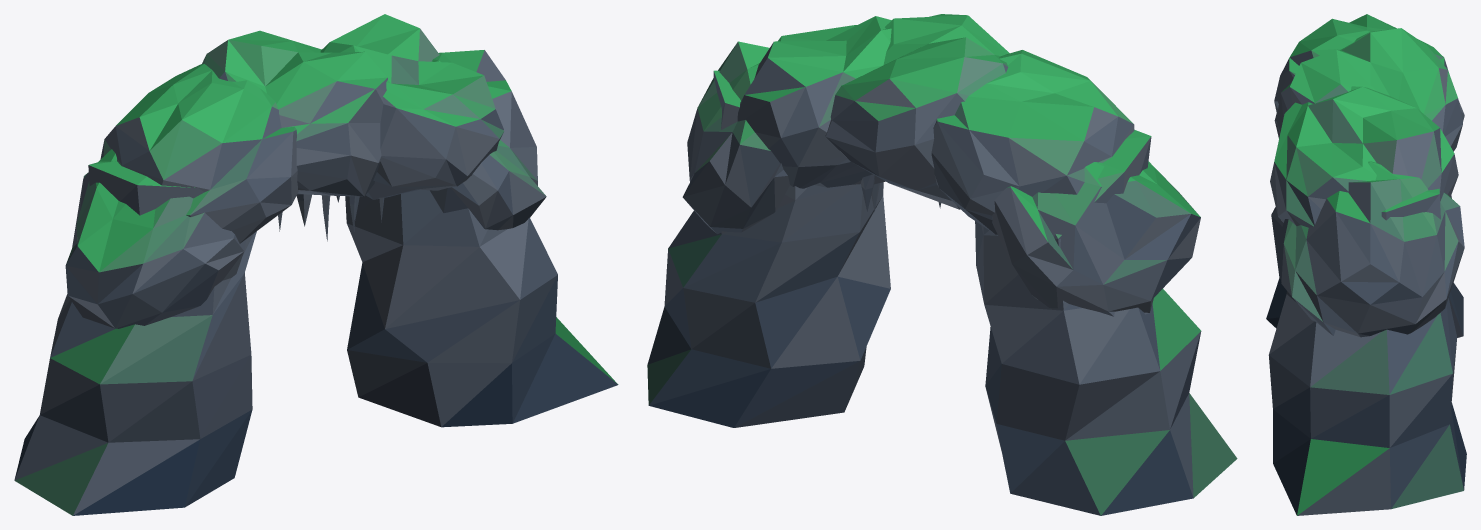
File: batu_arch_granite_547808.glb
The picture shows the model from 3 angles, left to right: view 1: azimuth 30°, elevation 25°; view 2: azimuth 150°, elevation 25°; view 3: azimuth 270°, elevation 25°; orthographic projection. The views are drawn at different scales.
Visible parts, largest first — view 1: Lengkungan_Gua_Batu; view 2: Lengkungan_Gua_Batu; view 3: Lengkungan_Gua_Batu.
Part boxes in pixels (<box>): Lengkungan_Gua_Batu: <box>14,14,618,515</box>; Lengkungan_Gua_Batu: <box>647,14,1237,515</box>; Lengkungan_Gua_Batu: <box>1266,14,1466,515</box>.
Size of the model in its own units: 10.76 by 7.2 by 3.79.
